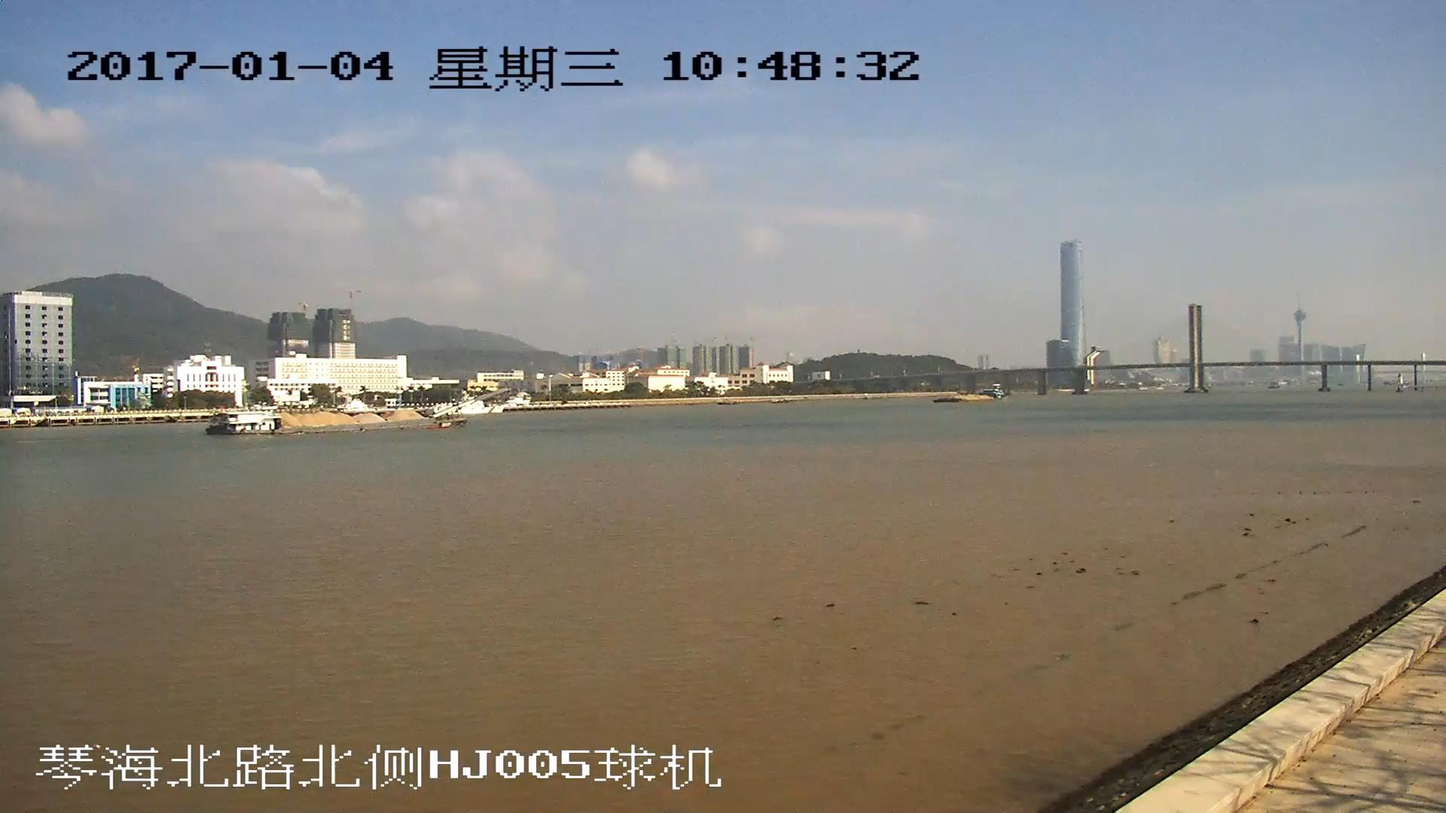ore carrier: (210, 387, 508, 436)
